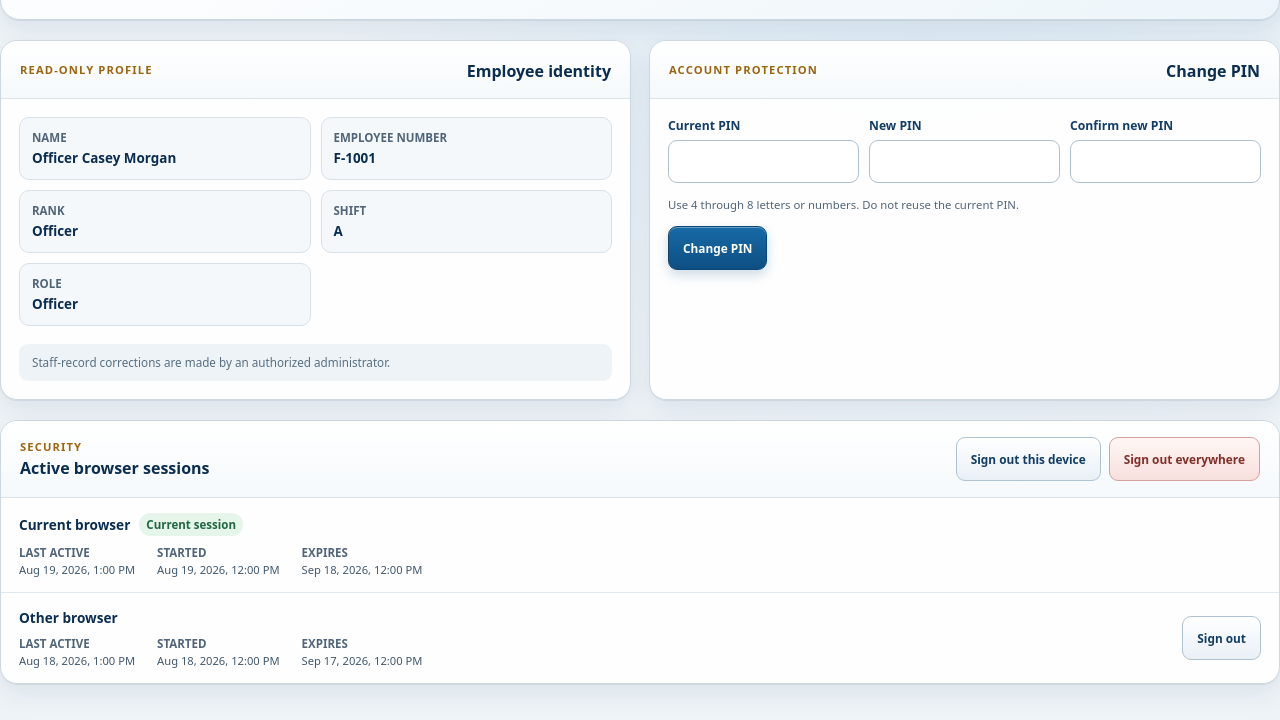
Account page › revokes another session but not through the current-session row
(page scrolled)
Click the button with aria-label "Sign out Other browser" at (1222, 638), box [1182,616,1261,660]
(page scrolled)
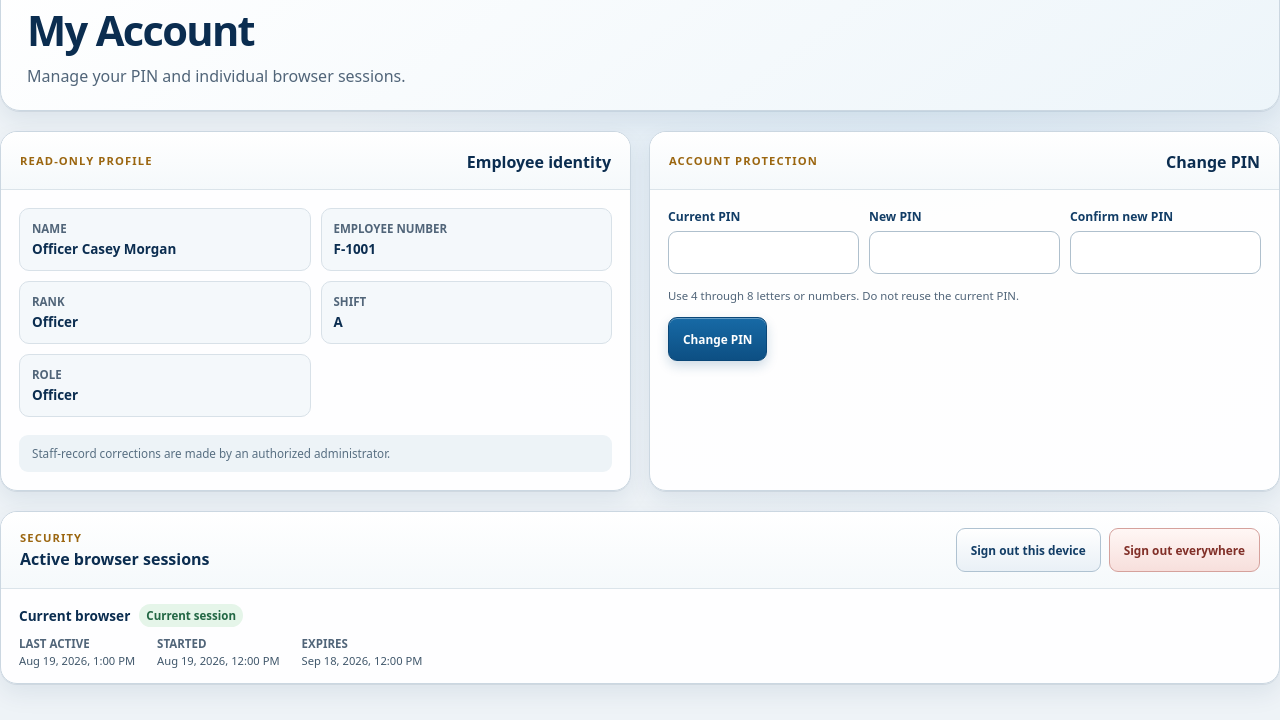
Now the text "Other browser" is gone
